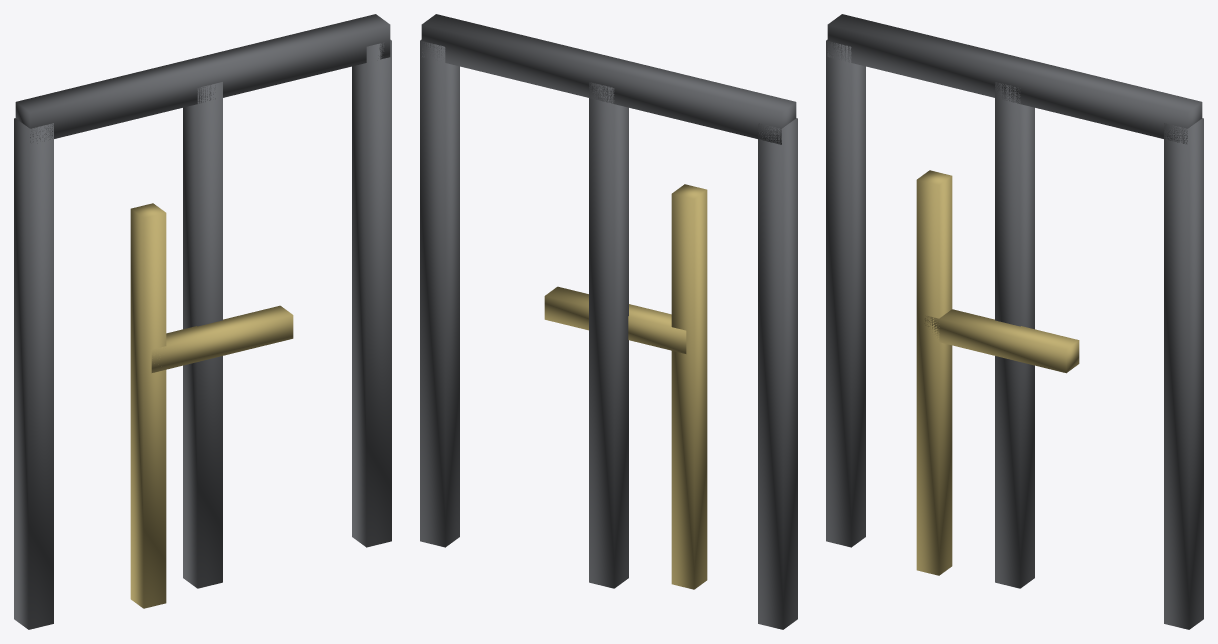
File: industrial_gate_l60_h85.glb
3 views of the same model, side by side, from view 1: azimuth 30°, elevation 25°; view 2: azimuth 150°, elevation 25°; view 3: azimuth 330°, elevation 25° (orthographic).
Parts seen in each view (by area): view 1: world; view 2: world; view 3: world.
Boxes of the visible parts, <box> form: world: <box>14,14,391,629</box>; world: <box>420,14,797,629</box>; world: <box>826,14,1203,629</box>.
Size of the model in its own units: 0.645 by 0.8775 by 0.0825.
